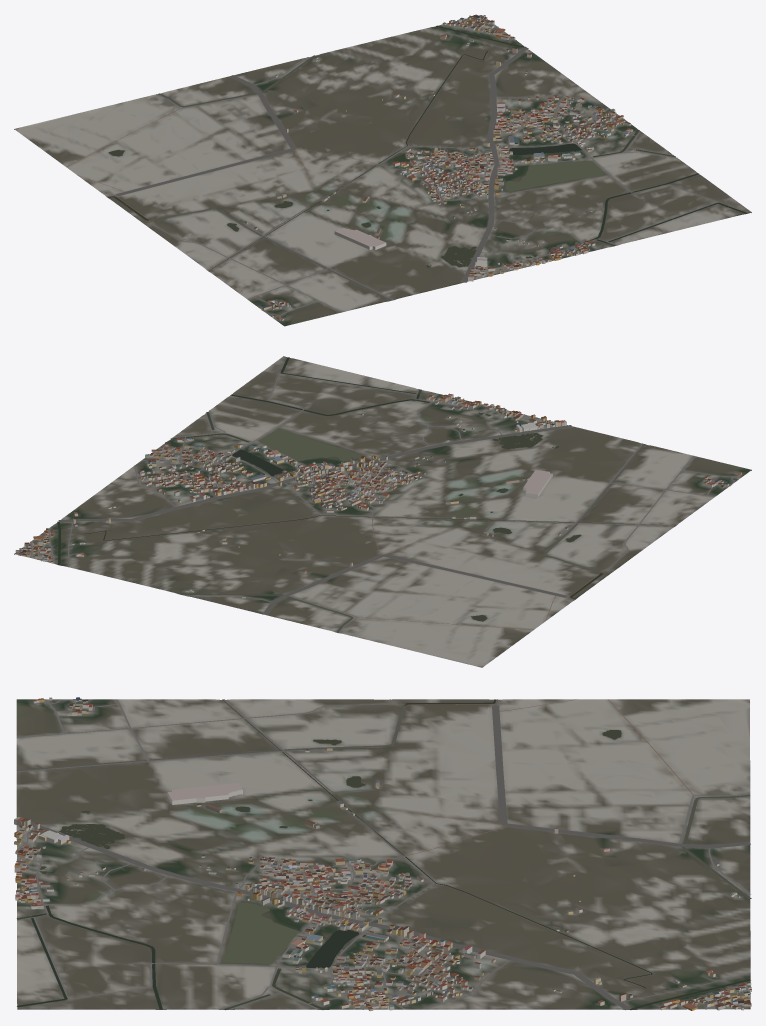
3 views of the same model, one above another, from view 1: azimuth 30°, elevation 25°; view 2: azimuth 150°, elevation 25°; view 3: azimuth 270°, elevation 25° (orthographic). The views are drawn at different scales.
Parts seen in each view (by area): view 1: ground, buildings, roads, water; view 2: ground, buildings, roads, water; view 3: ground, buildings, roads, water.
Boxes of the visible parts, x1,y1,x2,y2 form: ground: (14,15,751,326); buildings: (244,14,632,320); roads: (15,18,717,318); water: (108,25,747,300); ground: (14,356,751,667); buildings: (15,393,741,598); roads: (17,373,741,666); water: (57,357,675,632); ground: (16,699,750,1009); buildings: (14,697,751,1011); roads: (16,699,750,1010); water: (16,699,751,1010).
Size of the model in its own units: 1410 by 19.49 by 1410.
